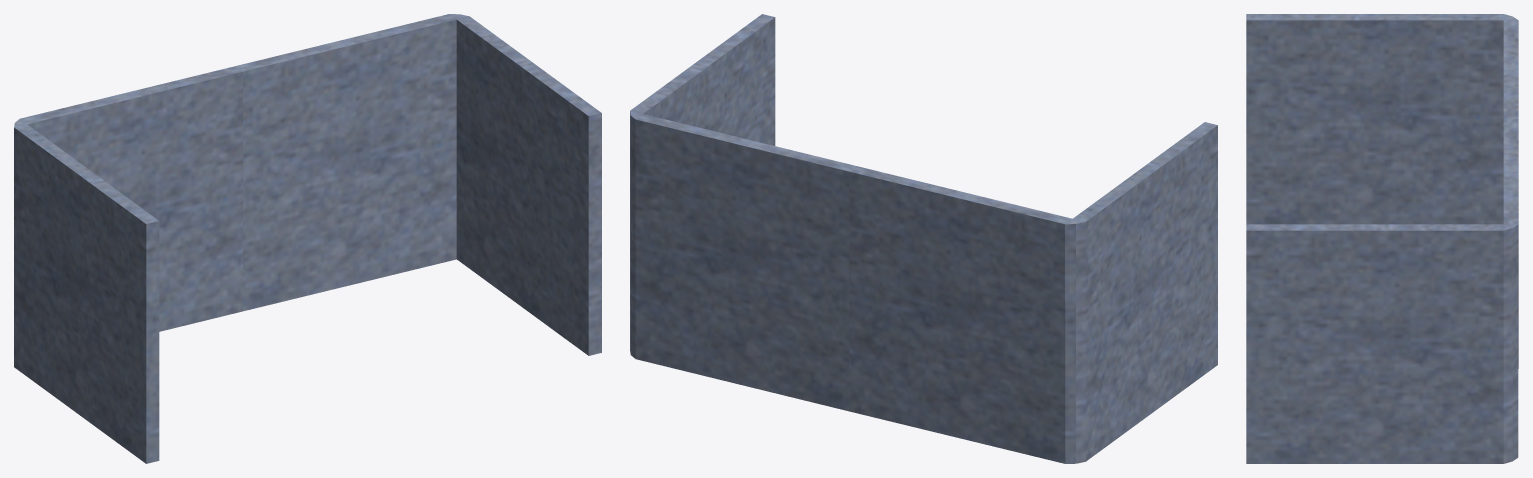
Rendered from divider_full_c_blue.obj.
3 renders of one model, left to right at view 1: azimuth 30°, elevation 25°; view 2: azimuth 150°, elevation 25°; view 3: azimuth 270°, elevation 25°, orthographic. The views are drawn at different scales.
Parts seen in each view (by area): view 1: divider_full_c_blue; view 2: divider_full_c_blue; view 3: divider_full_c_blue.
Part boxes in pixels (box(x1,y1,x2,y2)): divider_full_c_blue: box(14, 14, 601, 463); divider_full_c_blue: box(630, 14, 1217, 463); divider_full_c_blue: box(1246, 14, 1518, 463).
Size of the model in its own units: 2.99 by 1.5 by 1.59.
